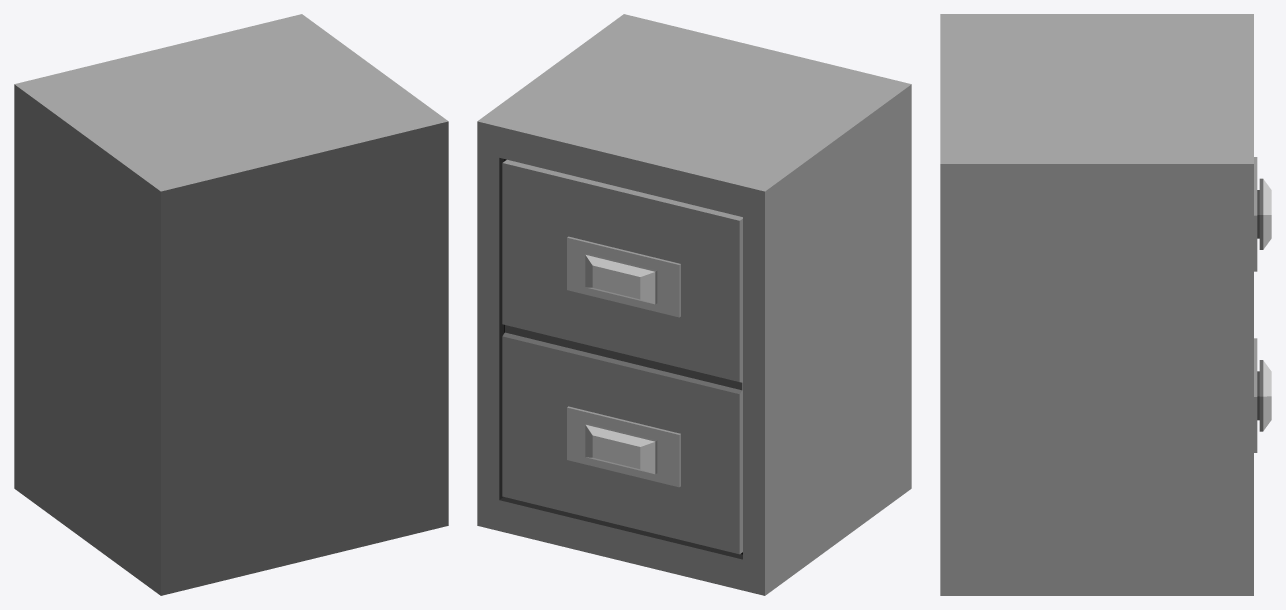
File: BedsideCabinetModel.fbx
3 views of the same model, side by side, from view 1: azimuth 30°, elevation 25°; view 2: azimuth 150°, elevation 25°; view 3: azimuth 270°, elevation 25° (orthographic). The views are drawn at different scales.
Visible parts, largest first — view 1: BedsideCabinetModel; view 2: BedsideCabinetModel; view 3: BedsideCabinetModel.
Part boxes in pixels (x1,y1,x2,y2): BedsideCabinetModel: (14,14,448,595); BedsideCabinetModel: (477,14,911,595); BedsideCabinetModel: (940,14,1271,595).
Size of the model in its own units: 77.69 by 104 by 72.45.
